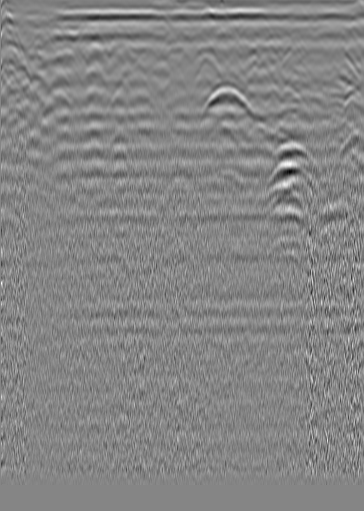가스: (200, 83, 251, 123)
상수: (341, 23, 361, 43)
오수: (0, 11, 26, 49)
우수: (162, 24, 192, 44)
